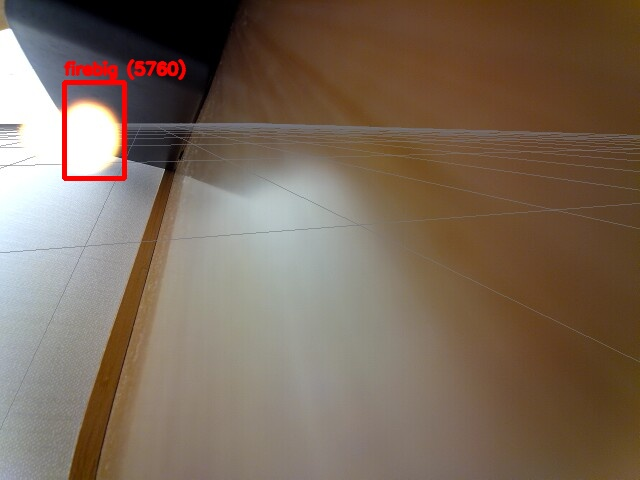firebig: (64, 82, 124, 178)
